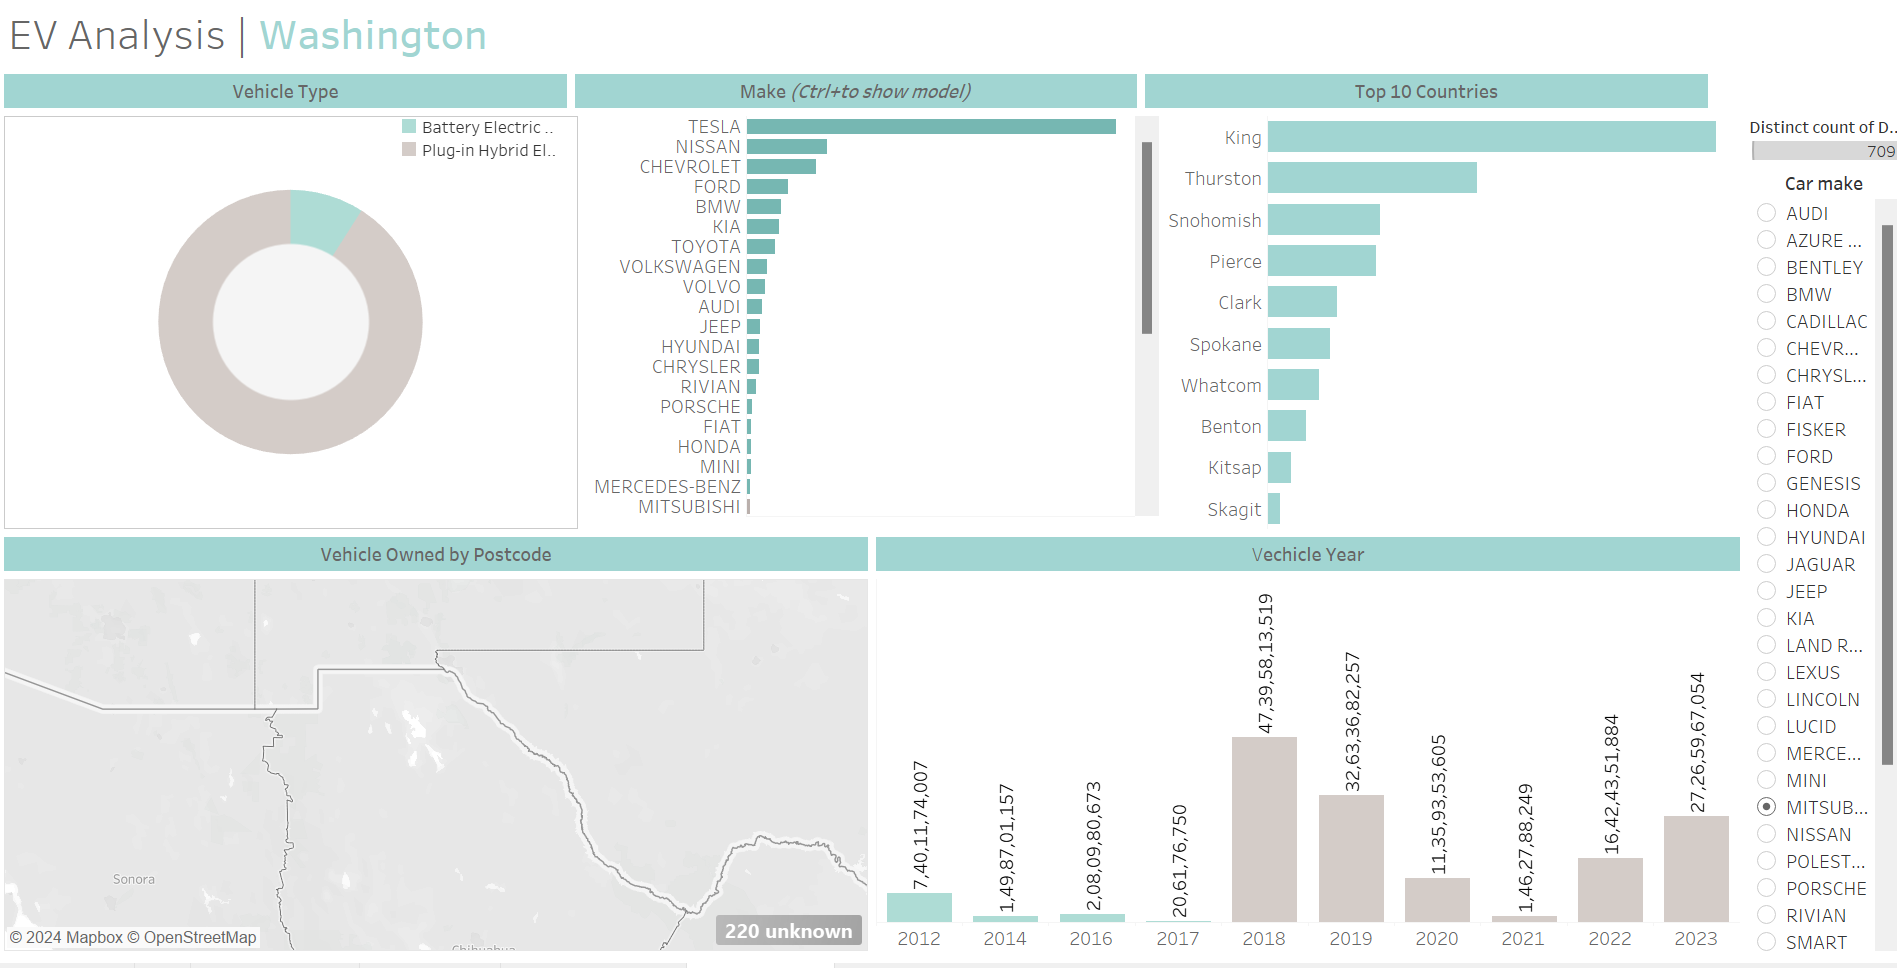

Layout of this report page (visuals, bound fields, positions):
{"tool":"tableau","page":{"name":"Dashboard 1","canvas":[1000,1000],"units":"permille","ordinal":0},"visuals":[{"type":"text","box":[5,10.7,990,75.1]},{"type":"text","box":[5,85.8,296.8,42.9]},{"type":"text","box":[301.8,85.8,296.8,42.9]},{"type":"text","box":[598.5,85.8,296.8,42.9]},{"type":"worksheet","title":"Vehicle Type Donut","mark":"Pie","rows":["Calculation_1549801260972507136","Calculation_1549801260972507136"],"box":[5,128.7,296.8,430.3]},{"type":"worksheet","title":"Make & Model","mark":"Automatic","rows":["Make"],"cols":["DOL Vehicle ID"],"box":[301.8,128.7,296.8,430.3]},{"type":"worksheet","title":"Top 10 Countries","mark":"Automatic","rows":["County"],"cols":["DOL Vehicle ID"],"box":[598.5,128.7,296.8,430.3]},{"type":"legend","title":"Vehicle Type Donut","param":"[federated.1qedod51wjcb8n12xh1p10z2rfp2].[ctd:DOL Vehicle ID:qk]","box":[895.3,128.7,99.8,72.4]},{"type":"legend","title":"Vehicle Type Donut","param":"[federated.1qedod51wjcb8n12xh1p10z2rfp2].[none:Electric Vehicle Type:nk]","box":[211.3,130,87.9,97.9]},{"type":"parameter","param":"[Parameters].[Parameter 1]","box":[895.3,201.1,99.8,788.2]},{"type":"text","box":[5,559,445.1,42.9]},{"type":"text","box":[450.1,559,445.1,42.9]},{"type":"worksheet","title":"Map","mark":"Multipolygon","box":[5,601.9,445.1,387.4]},{"type":"worksheet","title":"Year and Type","mark":"Bar","rows":["DOL Vehicle ID"],"cols":["Model Year"],"box":[450.1,601.9,445.1,387.4]}]}

Visuals, with their boxes on the dashboard's canvas, which has no fixed pixel size, in thousandths of its width and height (x1, y1, x2, y2). These are canvas units, not pixel positions in the 1897x968 screenshot, which may show the page scaled, cropped or inside an application window:
text: (5,11,995,86)
text: (5,86,302,129)
text: (302,86,599,129)
text: (598,86,895,129)
"Vehicle Type Donut" worksheet (Pie marks): (5,129,302,559)
"Make & Model" worksheet: (302,129,599,559)
"Top 10 Countries" worksheet: (598,129,895,559)
"Vehicle Type Donut" legend: (895,129,995,201)
"Vehicle Type Donut" legend: (211,130,299,228)
parameter: (895,201,995,989)
text: (5,559,450,602)
text: (450,559,895,602)
"Map" worksheet (Multipolygon marks): (5,602,450,989)
"Year and Type" worksheet (Bar marks): (450,602,895,989)
